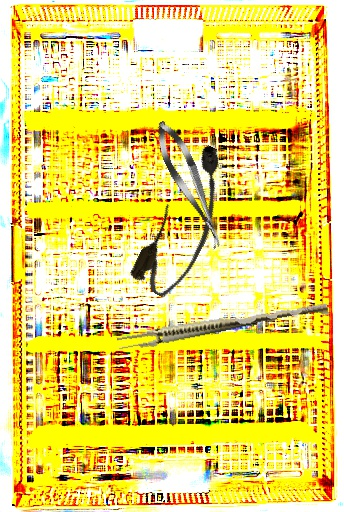Cannula: (126, 139, 246, 304)
Micro Scissor: (148, 116, 232, 253)
Tissue Forceps: (116, 294, 329, 356)
